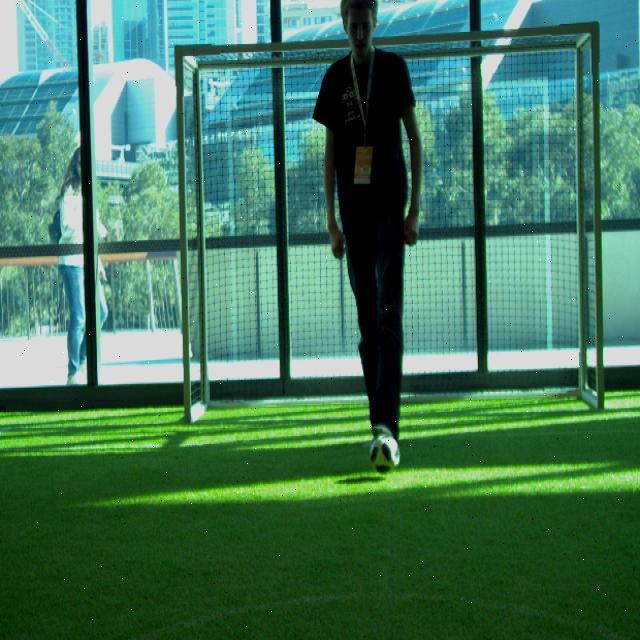ball: (369, 433, 402, 476)
goalpost: (173, 46, 194, 422), (589, 23, 605, 408)
